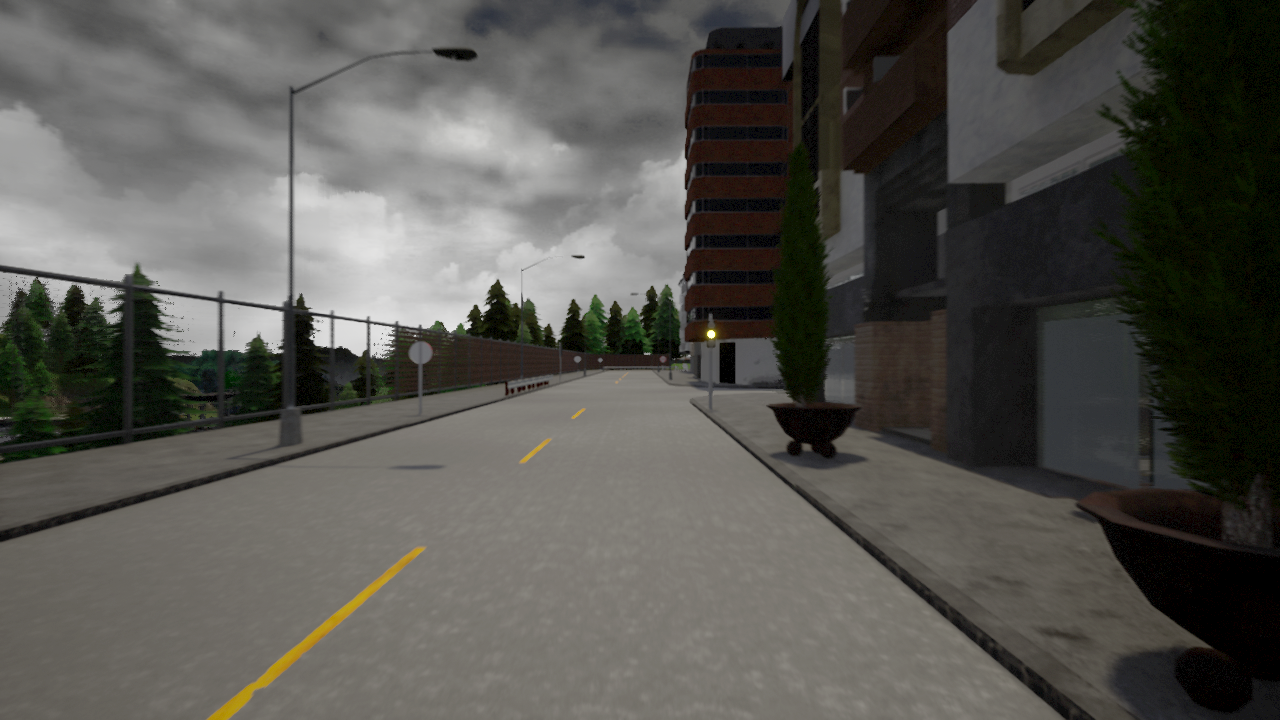yellow: (706, 319, 717, 348)
